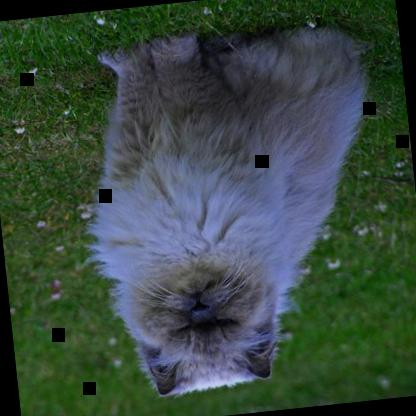cat: (84, 17, 396, 401)
